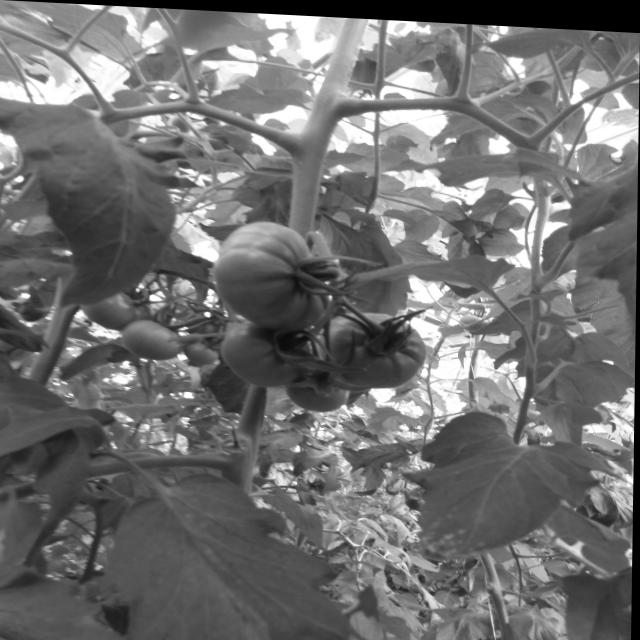yesil: (188, 208, 449, 415)
